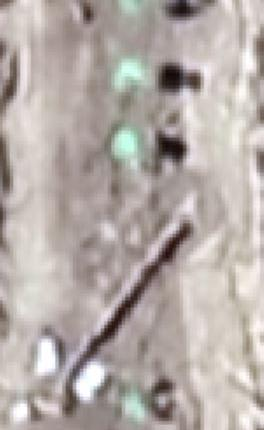cotton: (114, 131, 140, 158), (120, 56, 143, 82), (124, 390, 142, 418), (119, 1, 139, 13)
